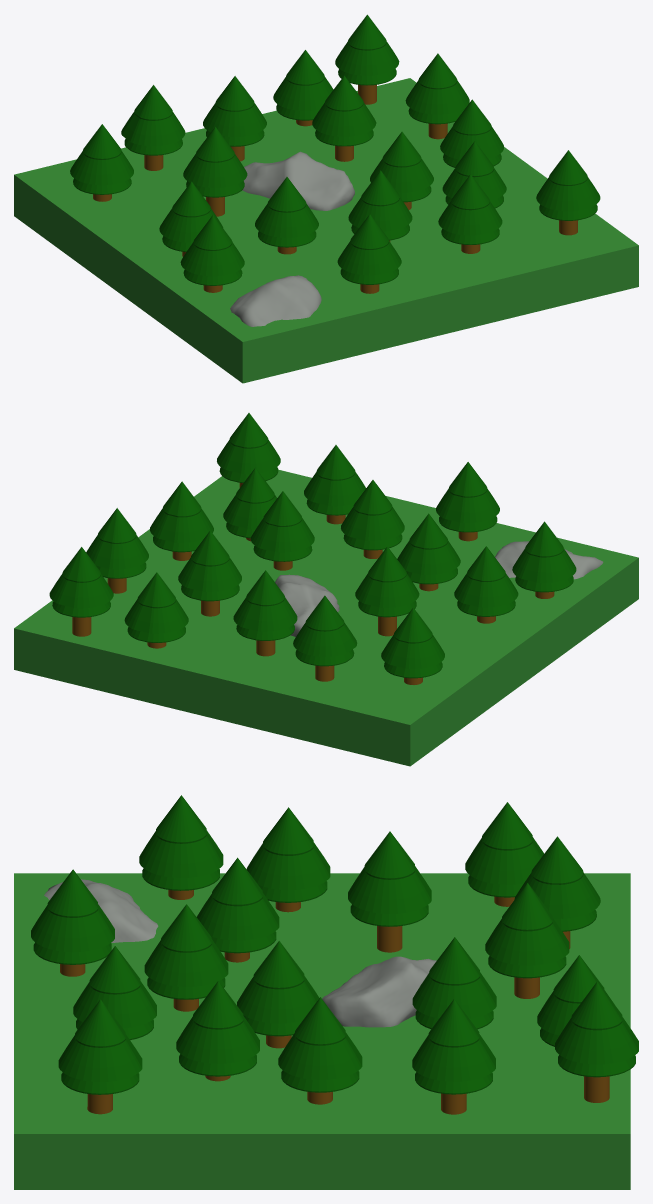
The model's file is BiomeSapins.glb.
3 renders of one model, top to bottom at view 1: azimuth 30°, elevation 25°; view 2: azimuth 150°, elevation 25°; view 3: azimuth 270°, elevation 25°, orthographic. The views are drawn at different scales.
Parts seen in each view (by area): view 1: GrassEmitter, Cube, rock, pine.014, pine.012, pine.013, pine.015, rock.001, pine.003, pine.016, pine.006, pine.011 (+10 smaller); view 2: GrassEmitter, Cube, pine.014, pine.016, pine.013, pine.001, pine.012, pine.024, pine.011, pine.008, pine.021, pine.018 (+10 smaller); view 3: GrassEmitter, Cube, pine.016, pine.014, pine.001, pine.003, pine.015, pine.005, pine.011, pine.021, pine.008, pine.004 (+10 smaller).
Part boxes in pixels (x1,y1,x2,y2): GrassEmitter: (14,78,638,341); Cube: (14,175,638,383); rock: (242,151,354,210); pine.014: (335,14,399,104); pine.012: (312,75,376,161); pine.013: (121,85,185,170); pine.015: (536,150,600,235); rock.001: (230,275,321,326); pine.003: (405,53,469,139); pine.016: (183,126,247,216); pine.006: (438,174,502,253); pine.011: (337,214,401,293); GrassEmitter: (14,469,638,724); Cube: (14,558,638,766); pine.014: (49,547,113,636); pine.016: (355,546,419,636); pine.013: (293,595,357,681); pine.001: (233,570,297,656); pine.012: (178,530,241,616); pine.024: (250,491,314,570); pine.011: (436,462,499,541); pine.008: (341,480,404,558); pine.021: (512,521,576,598); pine.018: (454,546,518,623); GrassEmitter: (14,873,630,1133); Cube: (14,1134,630,1189); pine.016: (348,831,431,952); pine.014: (555,982,638,1102); pine.001: (485,883,569,998); pine.003: (412,999,495,1114); pine.015: (58,999,142,1114); pine.005: (278,997,362,1104); pine.011: (31,869,114,976); pine.021: (139,795,223,899); pine.008: (144,904,228,1011); pine.004: (176,981,259,1081).
Size of the model in its own units: 6 by 1.85 by 6.08.
